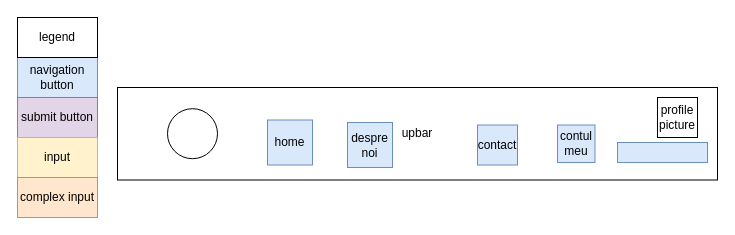
This 735x235 diagram has some shape labels left out. Here are the shapes that lost their labels. From the top down, the centre of each, then its label:
At point 192,133: "logo".
At point 662,152: "logout".
